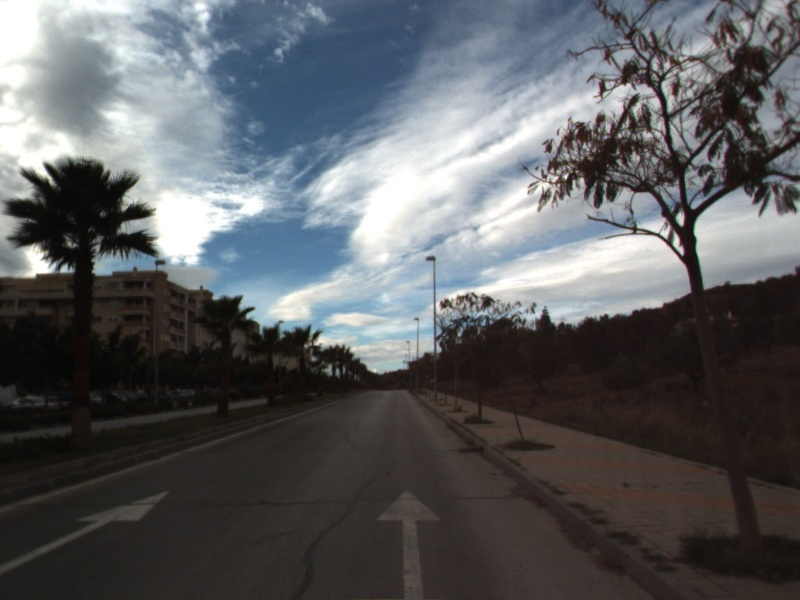STRAIGHT: (1, 488, 172, 576), (375, 487, 444, 600)
